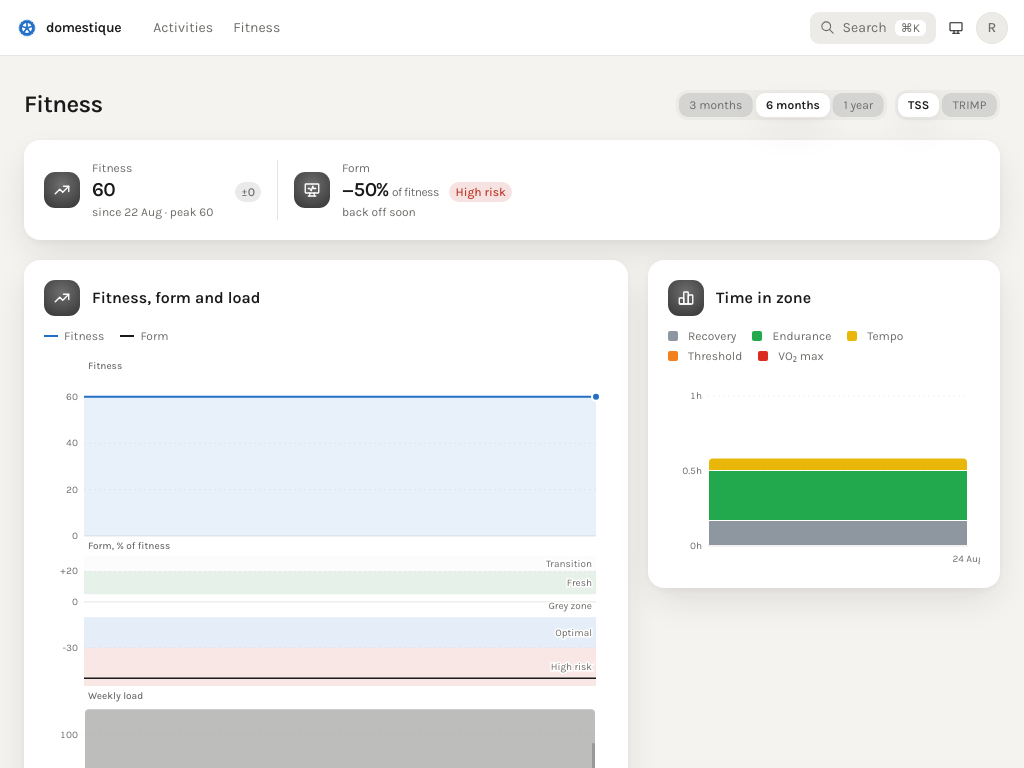
Test: FitnessPage › names the scale the chart is on, and changes it with the toggle
Click the button "TRIMP". click: (970, 105)
box: [942,93,997,117]
(page scrolled)
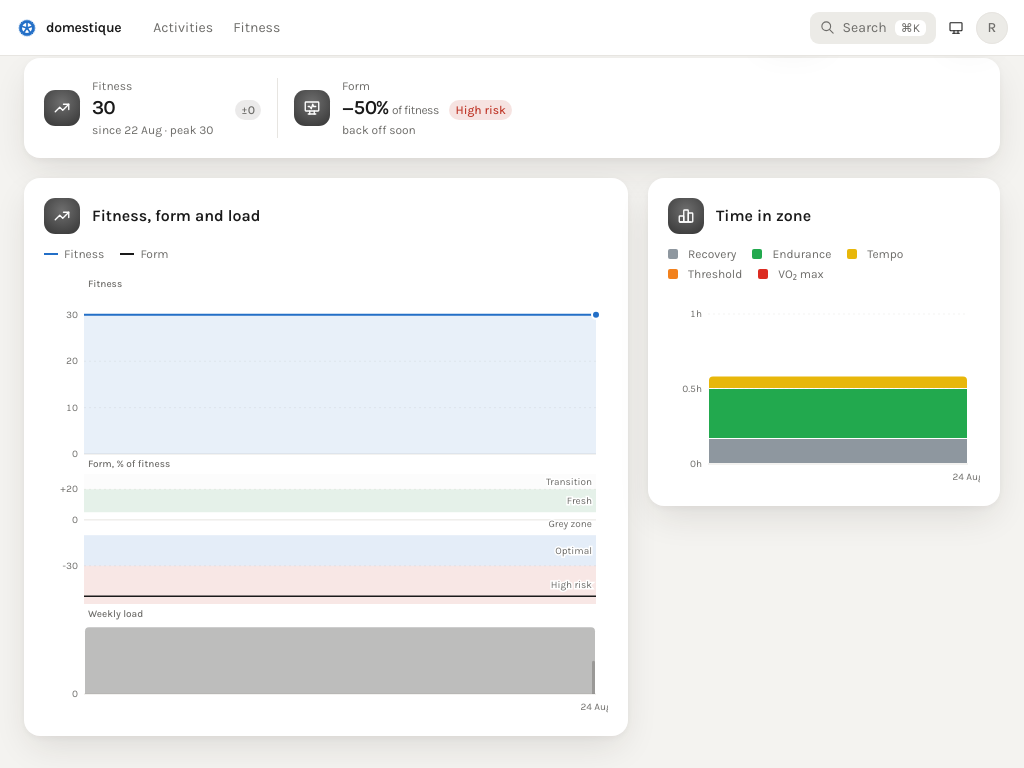
Check: the picture named "TRIMP scale" is shown, box [44,274,608,716]
